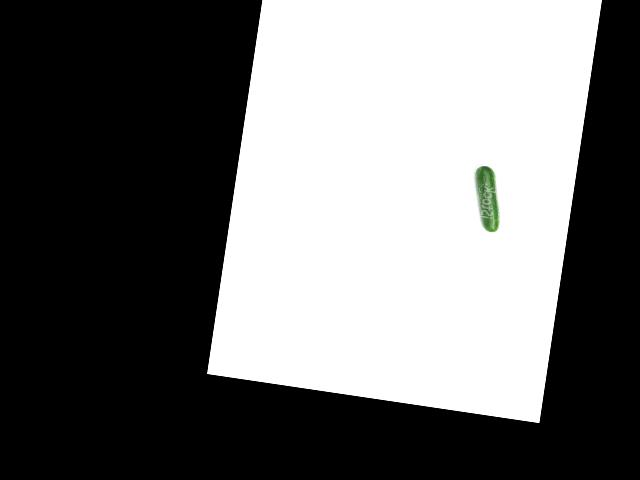cucumber: (467, 164, 507, 233)
